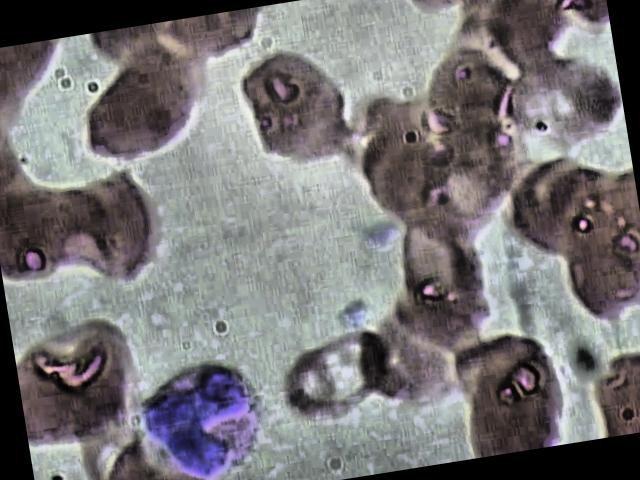Platelets: (326, 292, 378, 340), (351, 212, 403, 260)
RBC: (64, 43, 219, 174), (11, 311, 148, 456), (230, 46, 358, 174), (503, 42, 630, 170), (58, 170, 185, 298), (451, 329, 576, 458), (419, 44, 526, 192), (388, 196, 495, 343), (274, 320, 401, 431), (548, 180, 640, 327), (580, 341, 640, 439)
WBC: (123, 348, 278, 480)
